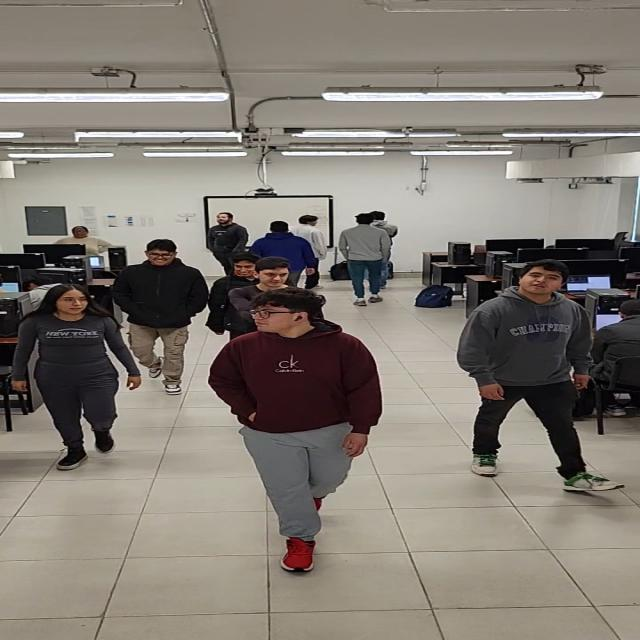Persona: (216, 290, 384, 582), (456, 272, 620, 499), (31, 282, 130, 471), (120, 238, 188, 384), (354, 213, 386, 301), (62, 224, 122, 269), (246, 258, 302, 294), (262, 218, 304, 266), (204, 211, 249, 249), (222, 251, 258, 284)
